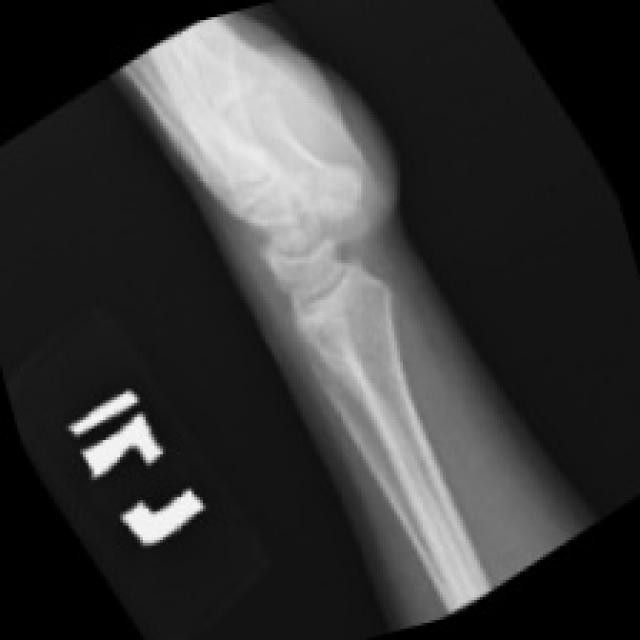fracture: (248, 182, 445, 367)
